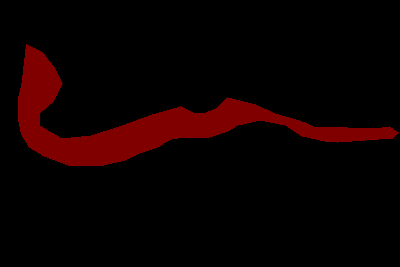fire: (18, 44, 398, 165)
